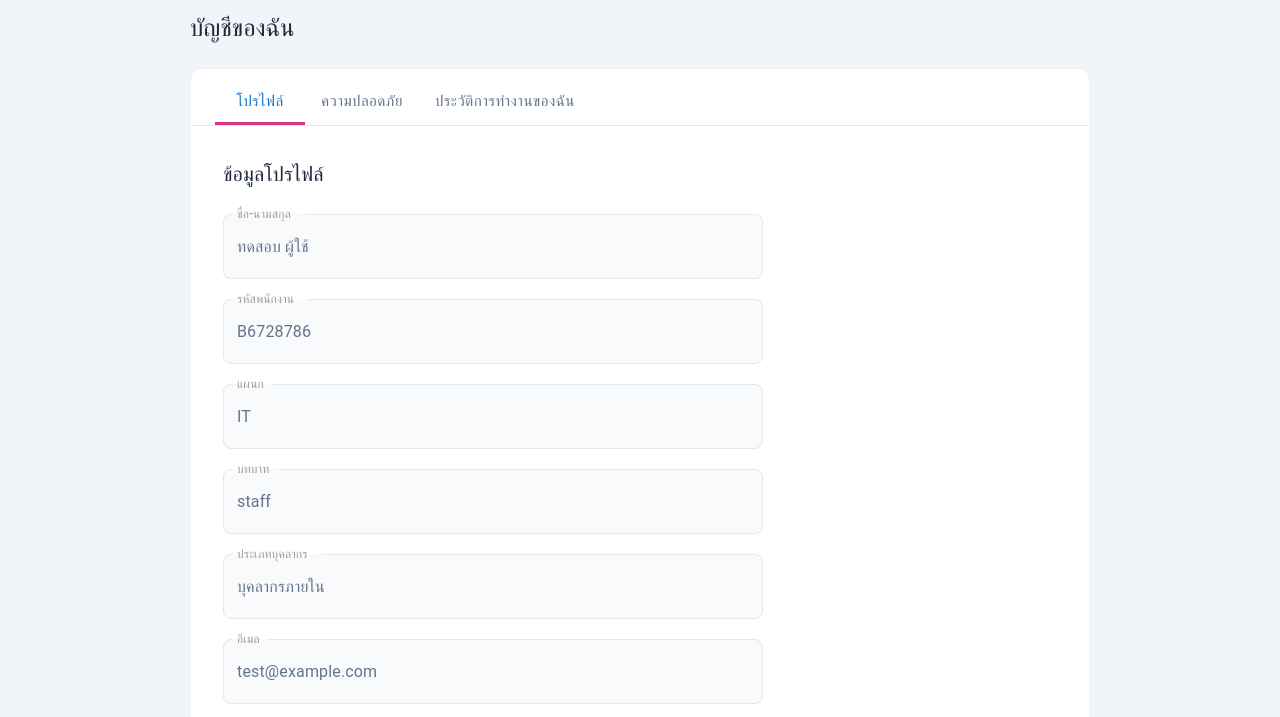
Test: EmployeeAccountPage — ActivityTab › shows only server-provided activity and formats Bangkok time
The image size is (1280, 717).
Click the tab "ประวัติการทำงานของฉัน": (505, 101) [419,77,591,125]
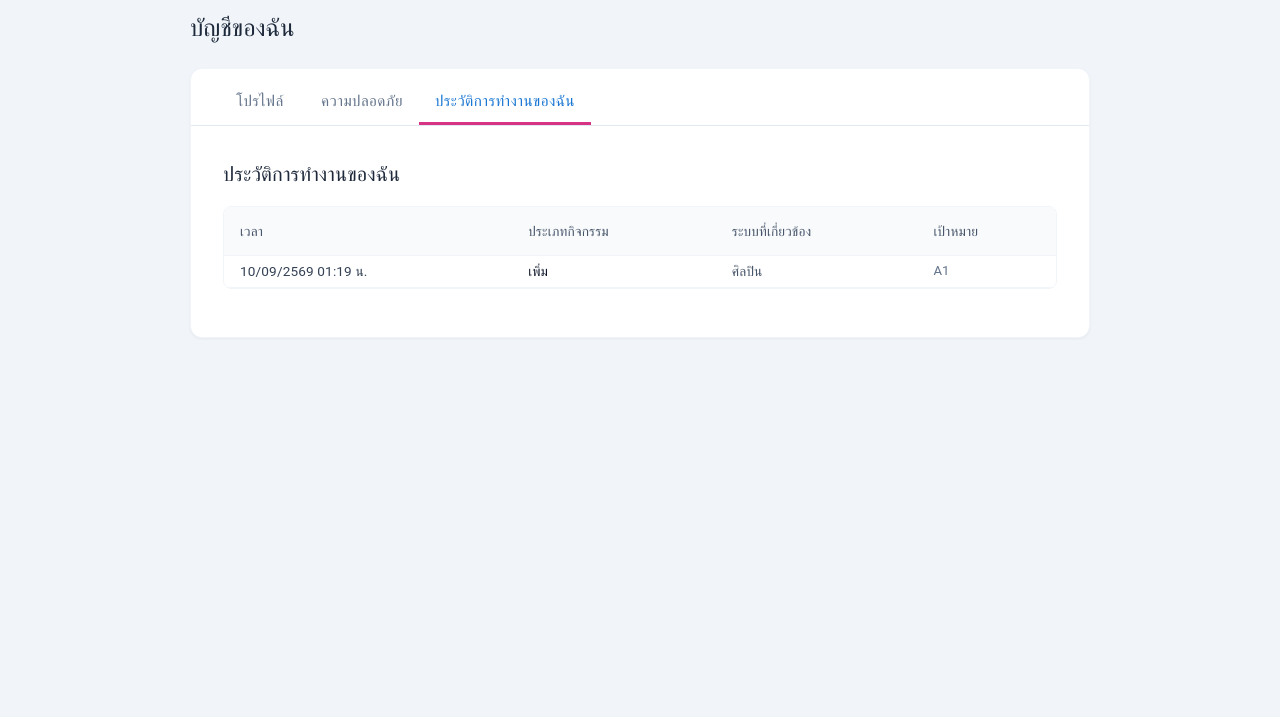
Result: the text "10/09/2569 01:19 น." is shown at [224,256,512,288]
